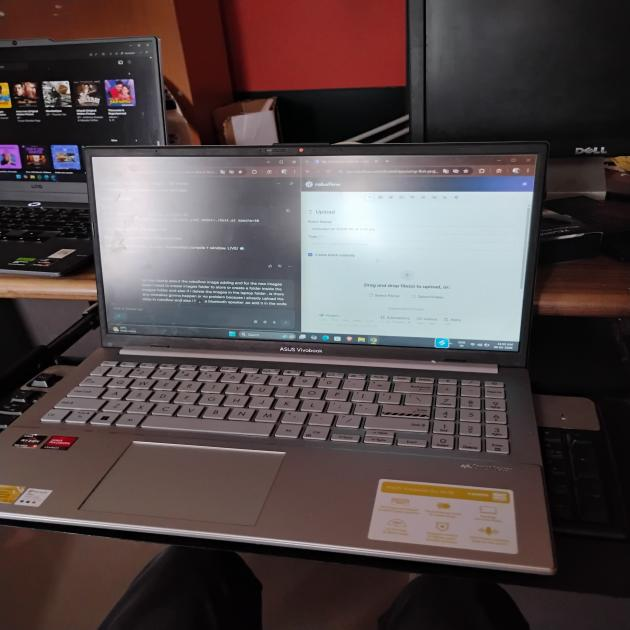laptop: (18, 126, 630, 575)
